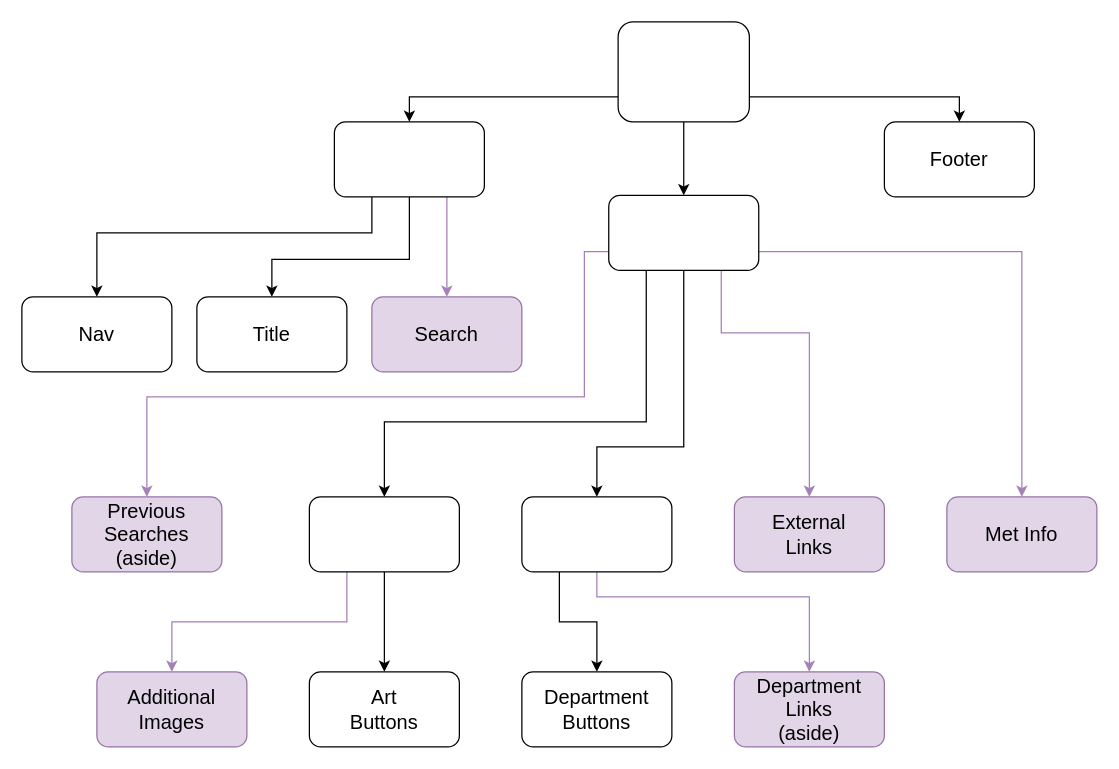
This 1119x769 diagram has some shape labels left out. Here are the shapes that lost their labels. From the top down, the box of each, then its label:
(617, 21, 749, 122): App.js
(333, 121, 484, 197): Header
(608, 194, 759, 270): Main
(308, 496, 459, 572): Art Details
(521, 496, 672, 572): Department Page
